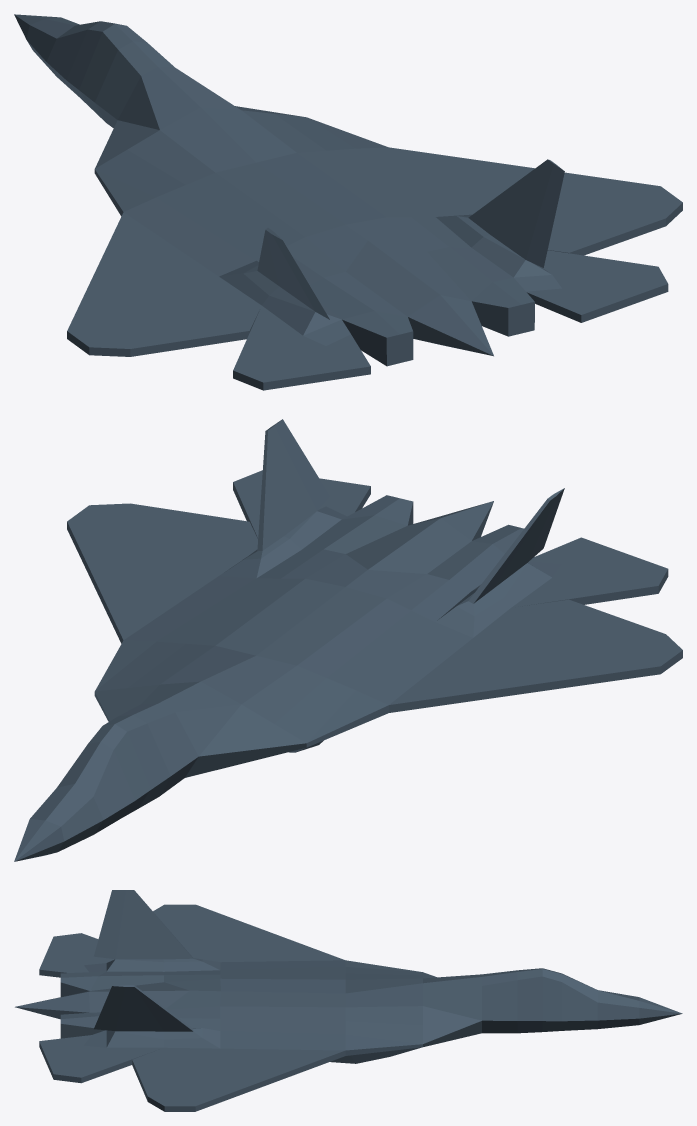
3 renders of one model, top to bottom at view 1: azimuth 30°, elevation 25°; view 2: azimuth 150°, elevation 25°; view 3: azimuth 270°, elevation 25°, orthographic. The views are drawn at different scales.
Visible parts, largest first — view 1: Fueslage, ElevonL, ElevonR, RudderR, AileronL, AileronR, RudderL; view 2: Fueslage, ElevonL, RudderR, ElevonR, RudderL, AileronL, AileronR; view 3: Fueslage, RudderL, ElevonR, RudderR, ElevonL, AileronR.
Boxes of the visible parts, <box> form: Fueslage: <box>14,14,682,366</box>; ElevonL: <box>233,306,370,390</box>; ElevonR: <box>514,250,668,322</box>; RudderR: <box>468,159,564,267</box>; AileronL: <box>89,305,261,356</box>; AileronR: <box>547,202,682,255</box>; RudderL: <box>257,228,329,319</box>; Fueslage: <box>14,495,682,861</box>; ElevonL: <box>511,537,668,607</box>; RudderR: <box>257,419,330,551</box>; ElevonR: <box>233,470,370,538</box>; RudderL: <box>468,488,564,603</box>; AileronL: <box>511,599,682,649</box>; AileronR: <box>90,503,257,545</box>; Fueslage: <box>15,904,682,1111</box>; RudderL: <box>94,890,193,959</box>; ElevonR: <box>39,1030,163,1083</box>; RudderR: <box>94,985,193,1031</box>; ElevonL: <box>39,933,114,977</box>; AileronR: <box>132,1048,164,1111</box>.
Size of the model in its own units: 14.22 by 3.37 by 19.93.
